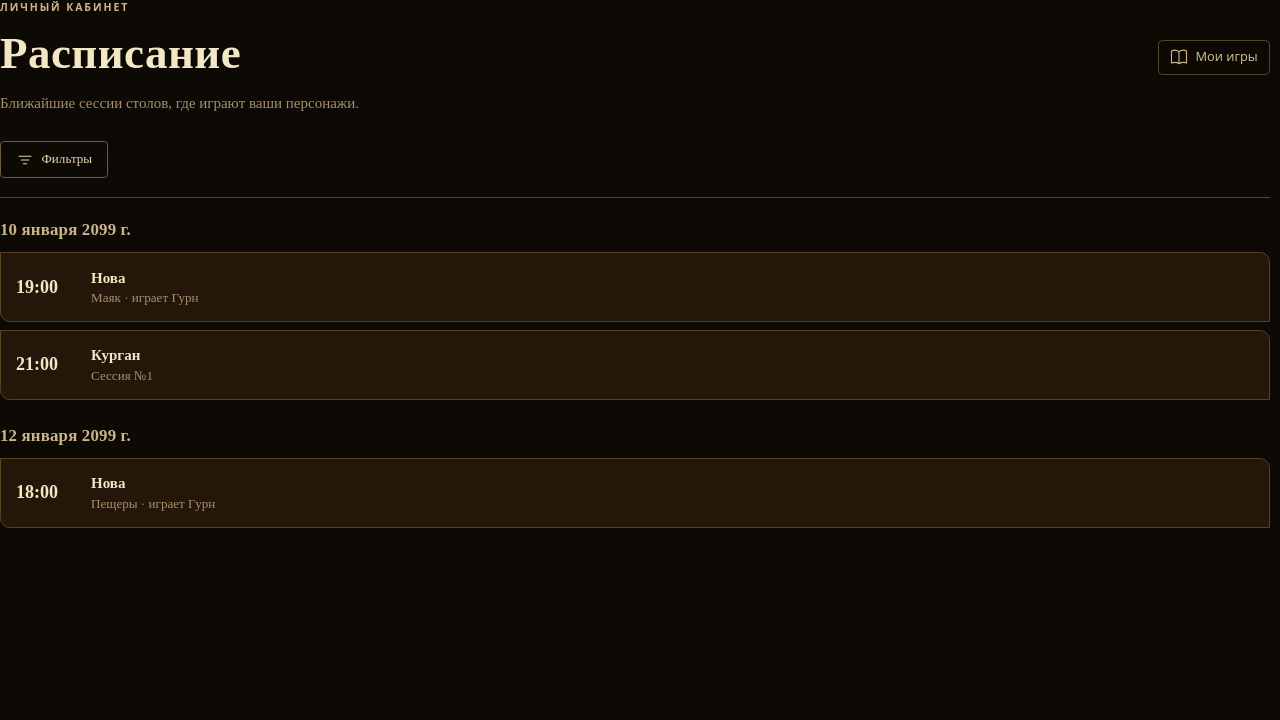
player schedule page › asks only for the player side and for cancelled sessions only when requested
Click the button "Фильтры" at (54, 160), box x1=0 y1=141 x2=108 y2=178
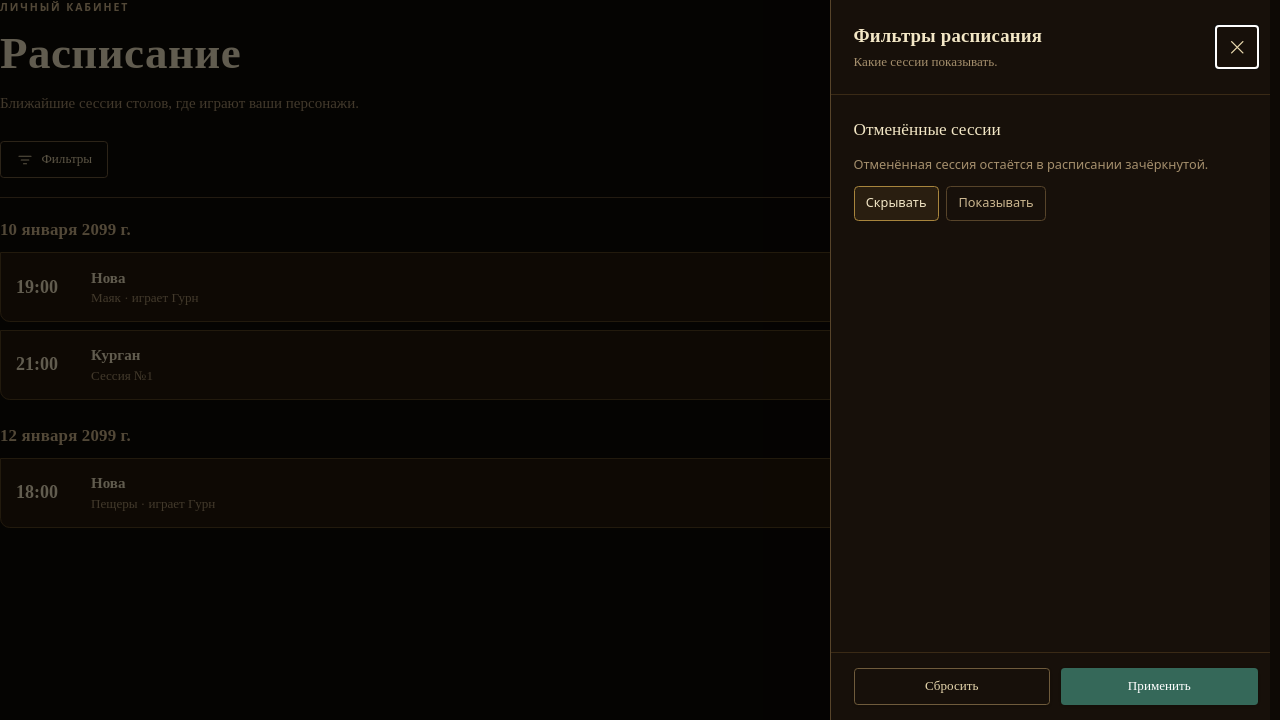
Click the button "Показывать" at (996, 203), box x1=946 y1=186 x2=1046 y2=220
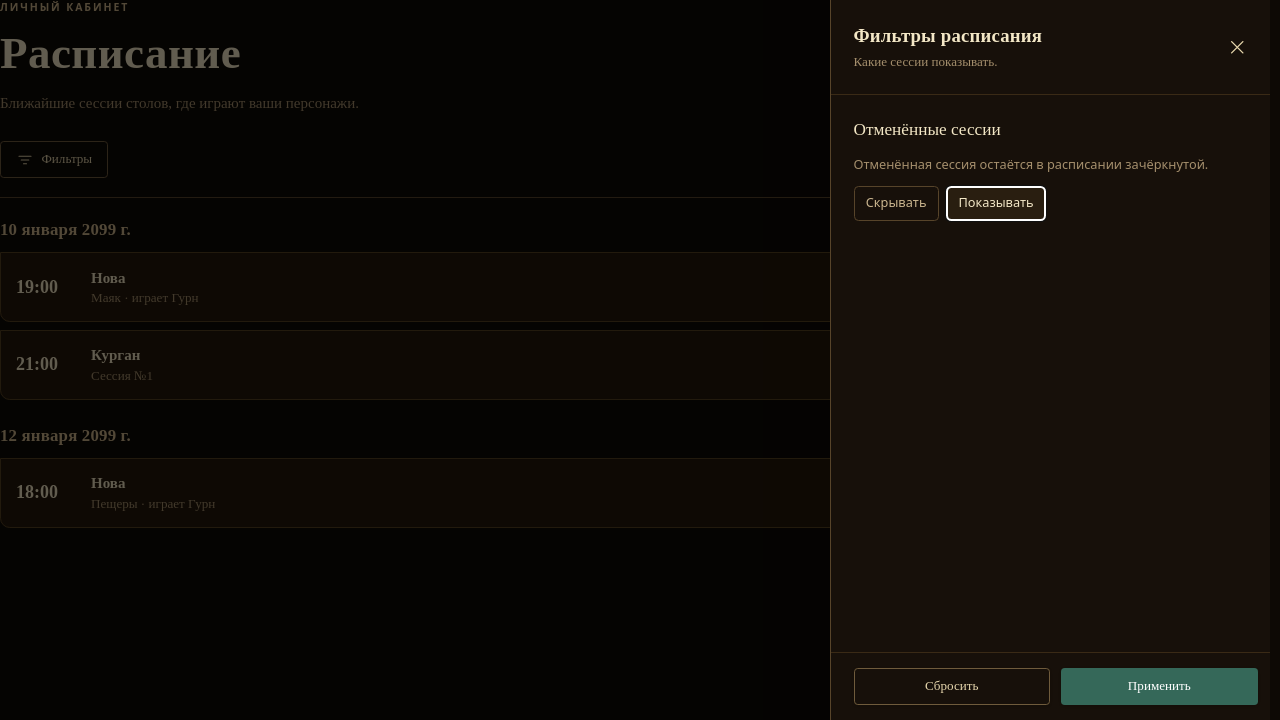
Click the button "Применить" at (1159, 686), box x1=1061 y1=668 x2=1258 y2=705
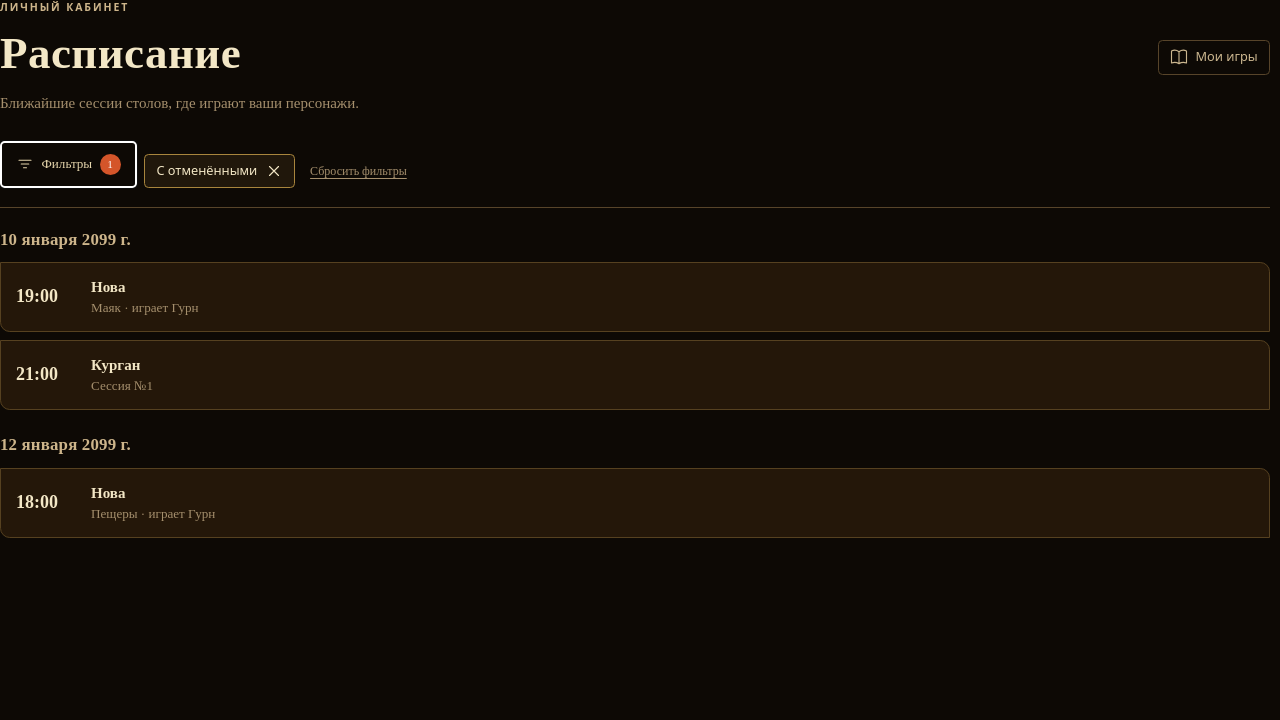
Now the button with aria-label "Убрать фильтр С отменёнными" is shown, box x1=144 y1=154 x2=295 y2=188
